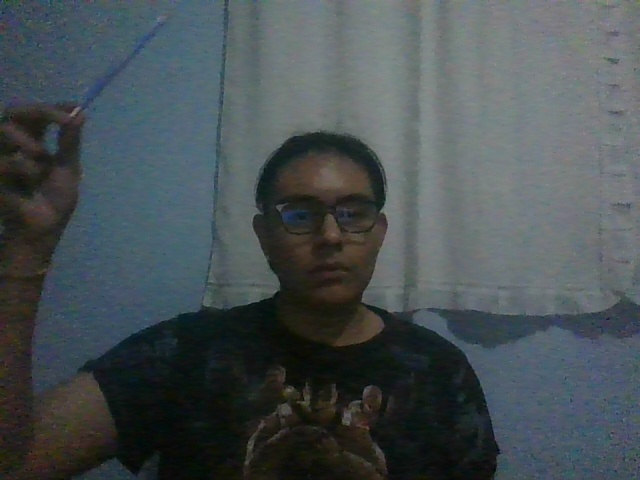lapiz: (69, 15, 169, 119)
